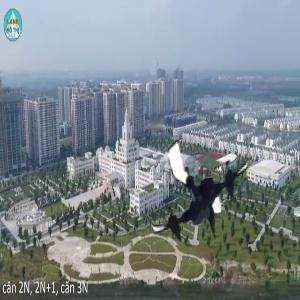drone: (136, 122, 261, 247)
